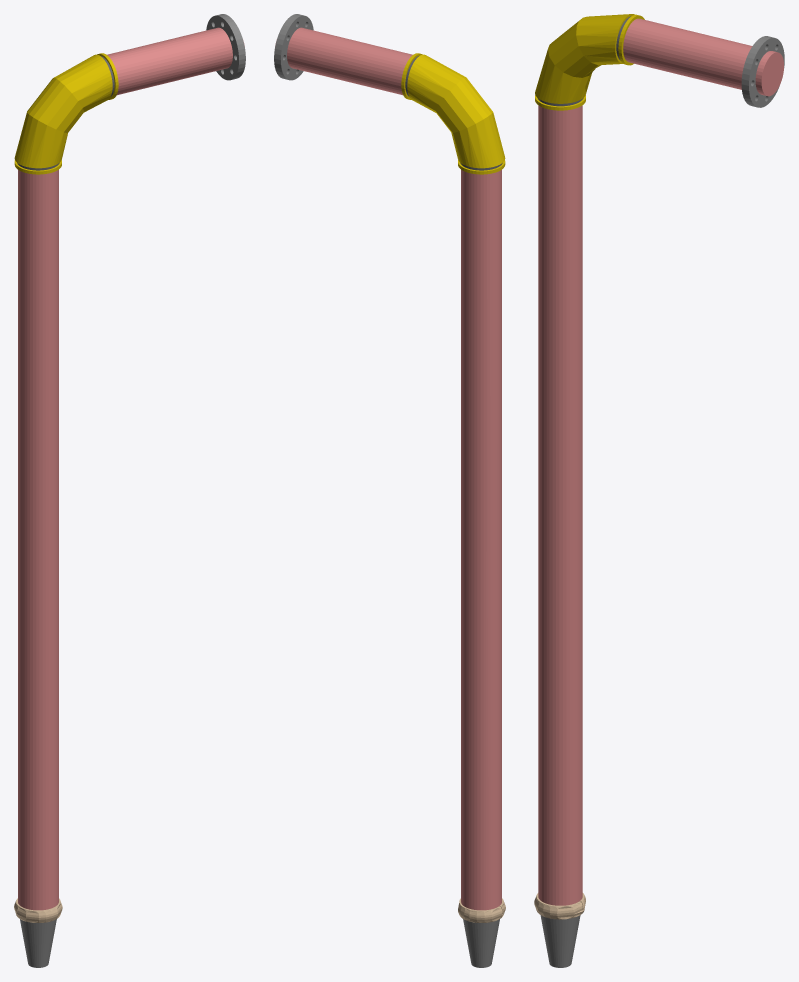
Rendered from succion_ppal.glb.
3 views of the same model, side by side, from view 1: azimuth 30°, elevation 25°; view 2: azimuth 150°, elevation 25°; view 3: azimuth 330°, elevation 25° (orthographic). The views are drawn at different scales.
Parts seen in each view (by area): view 1: n29_p0_255_92_92, n10_p0_255_191_0, n6_p0_255_92_92, n27_p0_91_91_91, n4_p0_91_91_91, n24_p0_255_191_127; view 2: n29_p0_255_92_92, n10_p0_255_191_0, n6_p0_255_92_92, n27_p0_91_91_91, n4_p0_91_91_91, n24_p0_255_191_127; view 3: n29_p0_255_92_92, n6_p0_255_92_92, n10_p0_255_191_0, n27_p0_91_91_91, n4_p0_91_91_91, n24_p0_255_191_127.
Boxes of the visible parts, left/top/right/bottom form: n29_p0_255_92_92: left=18, top=169, right=58, bottom=910; n10_p0_255_191_0: left=14, top=54, right=112, bottom=168; n6_p0_255_92_92: left=107, top=27, right=244, bottom=95; n27_p0_91_91_91: left=20, top=919, right=56, bottom=967; n4_p0_91_91_91: left=206, top=14, right=245, bottom=80; n24_p0_255_191_127: left=14, top=898, right=62, bottom=922; n29_p0_255_92_92: left=461, top=170, right=501, bottom=910; n10_p0_255_191_0: left=407, top=54, right=505, bottom=168; n6_p0_255_92_92: left=275, top=27, right=412, bottom=95; n27_p0_91_91_91: left=463, top=919, right=499, bottom=967; n4_p0_91_91_91: left=274, top=14, right=313, bottom=80; n24_p0_255_191_127: left=458, top=898, right=505, bottom=922; n29_p0_255_92_92: left=538, top=105, right=582, bottom=905; n6_p0_255_92_92: left=623, top=18, right=783, bottom=96; n10_p0_255_191_0: left=535, top=14, right=634, bottom=103; n27_p0_91_91_91: left=540, top=915, right=580, bottom=967; n4_p0_91_91_91: left=741, top=36, right=784, bottom=107; n24_p0_255_191_127: left=534, top=893, right=585, bottom=919.
Bounding box in the file's own units: 0.6109 × 2.42 × 0.1615.
